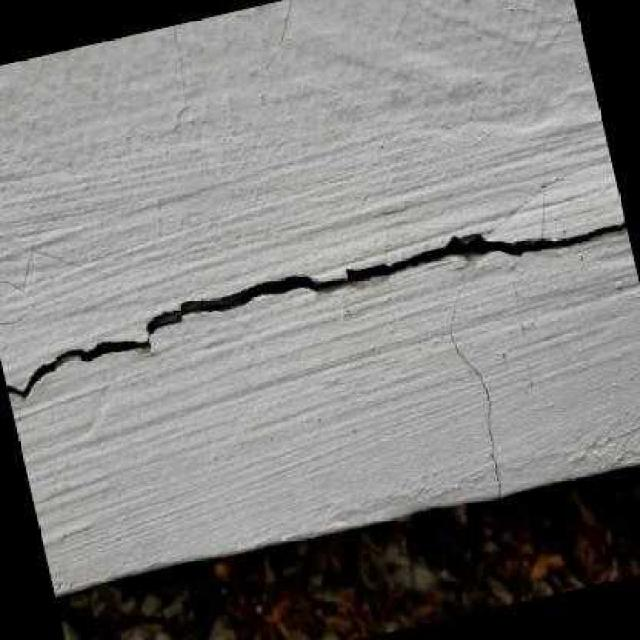D00: (7, 220, 628, 399), (450, 292, 501, 496)
